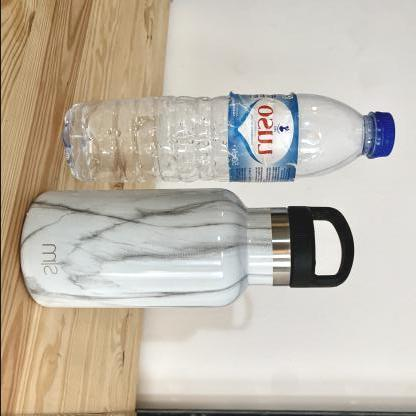bottle: (78, 99, 416, 184)
